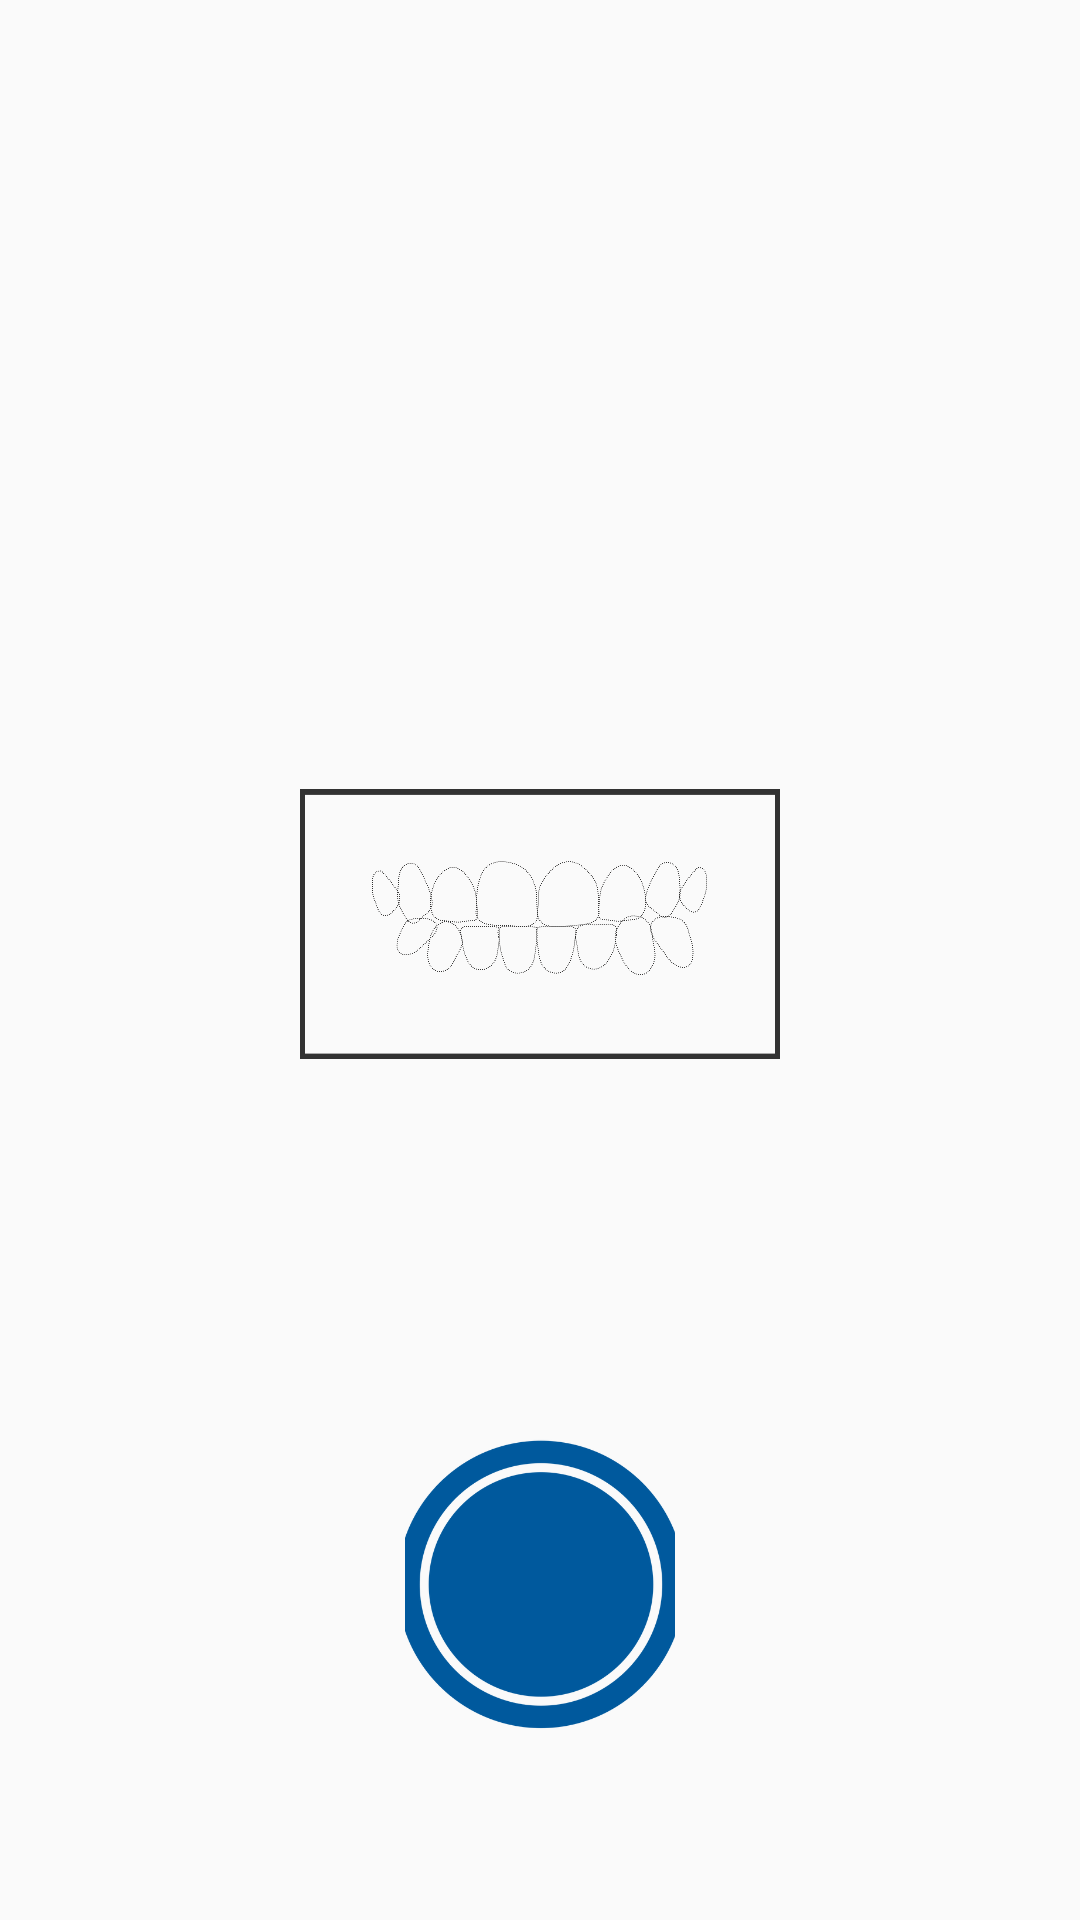

Where icons sit on this 1080 x 1920 app screen, as [x1, y1, x2, y2]:
take: [405, 1440, 675, 1728]
